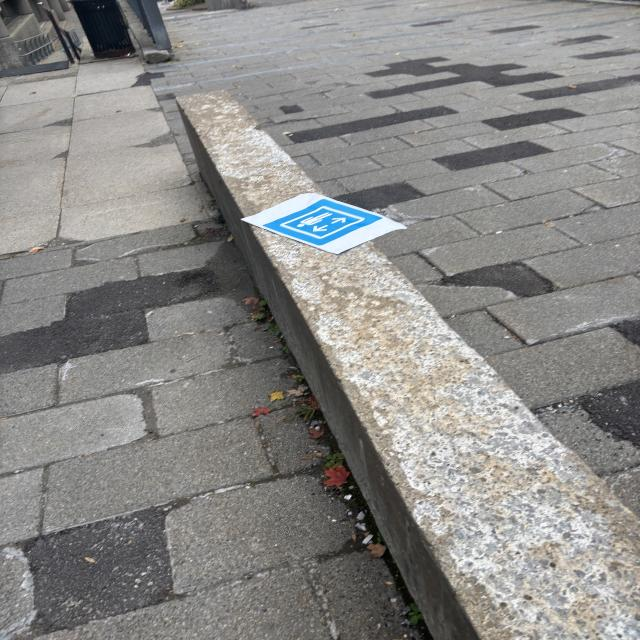elevator: (261, 198, 383, 247)
